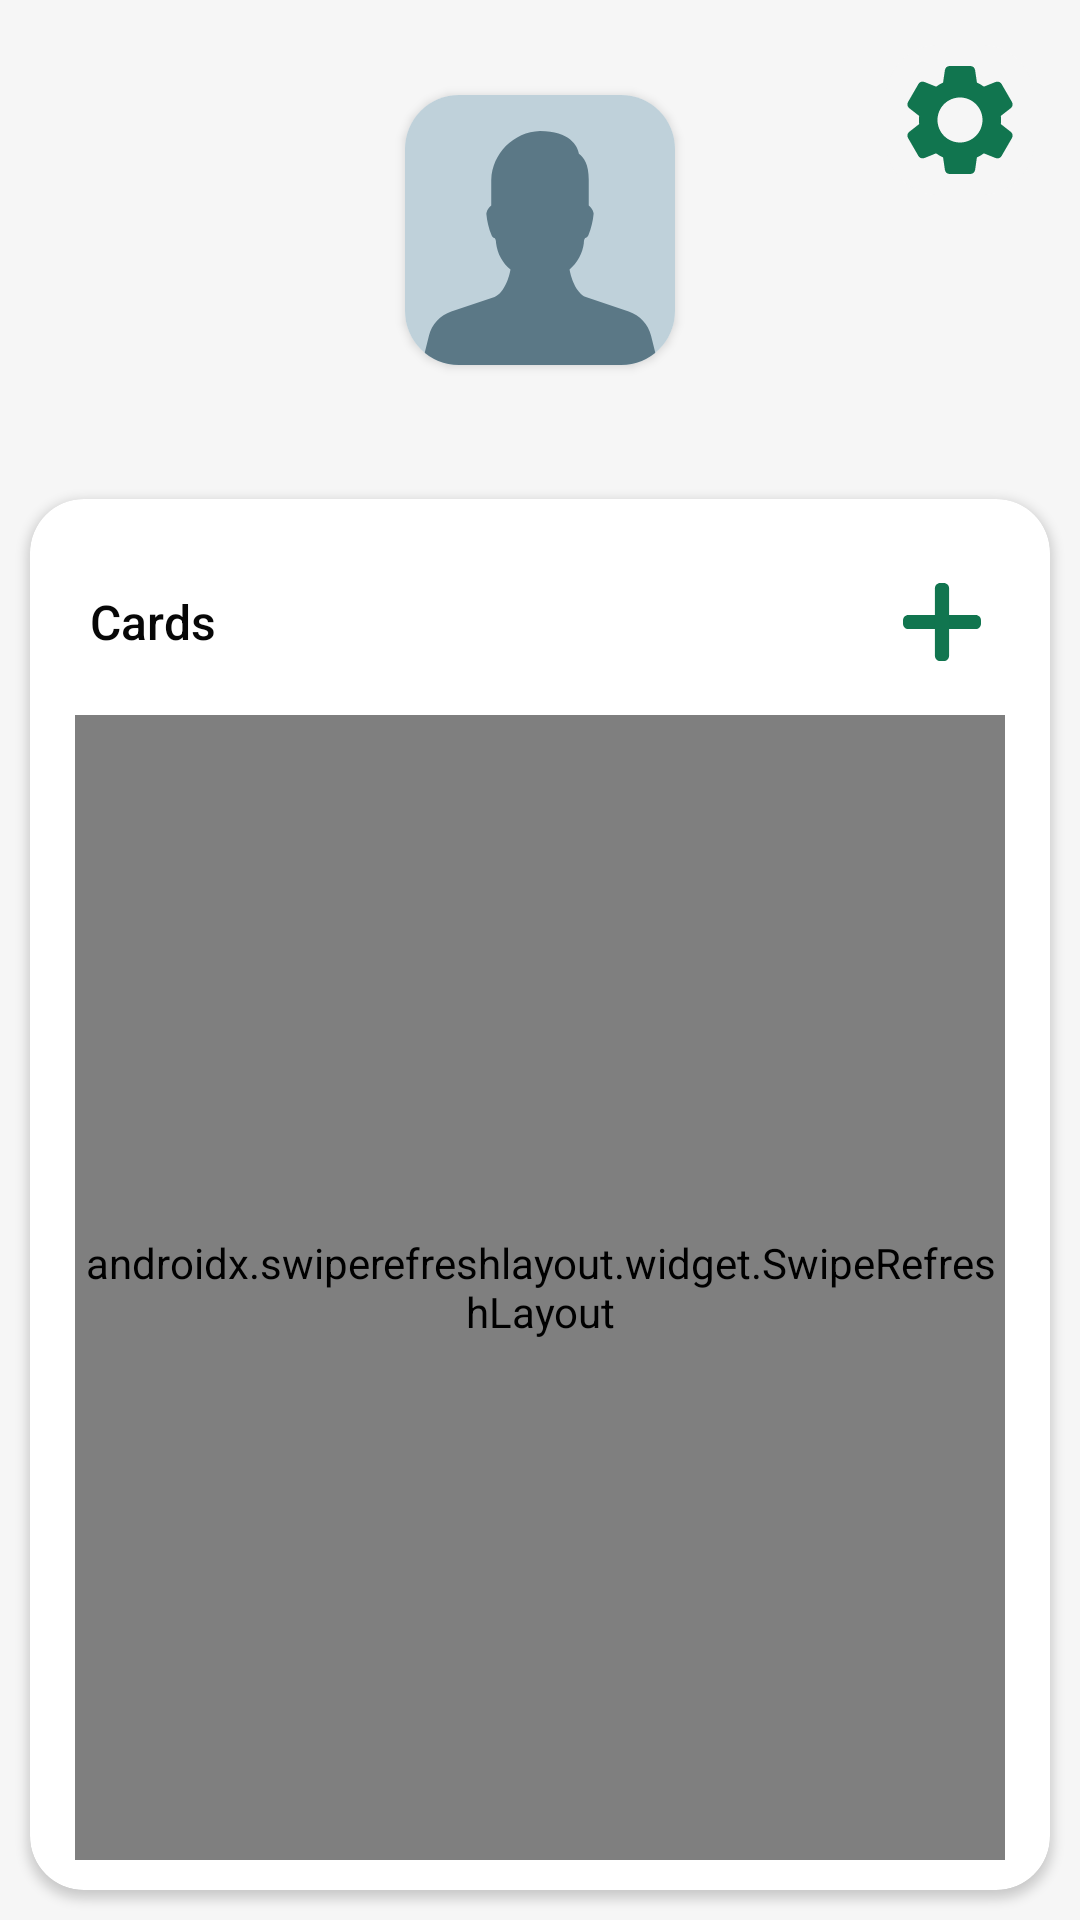

Icons on this 1080 × 1920 Android screen, each with its box as (x1,y1,x2,y2):
gear: (907,66,1013,174)
man: (405,95,675,365)
plus: (903,583,981,661)
